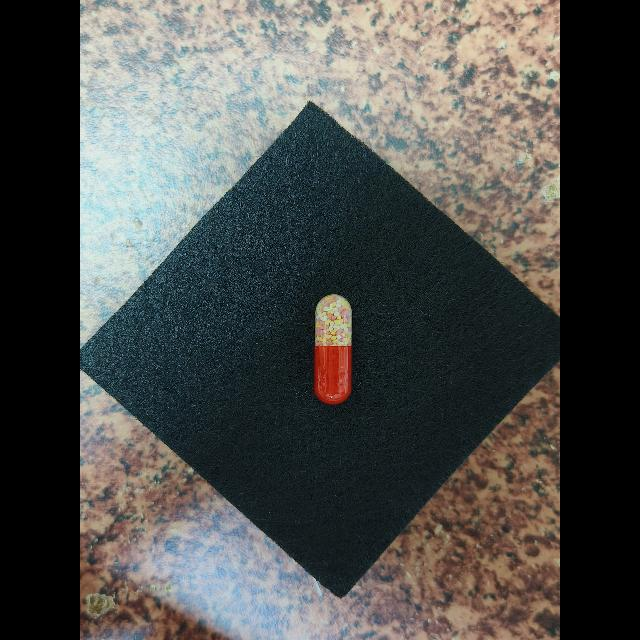Intact Capsule: (314, 294, 352, 405)
